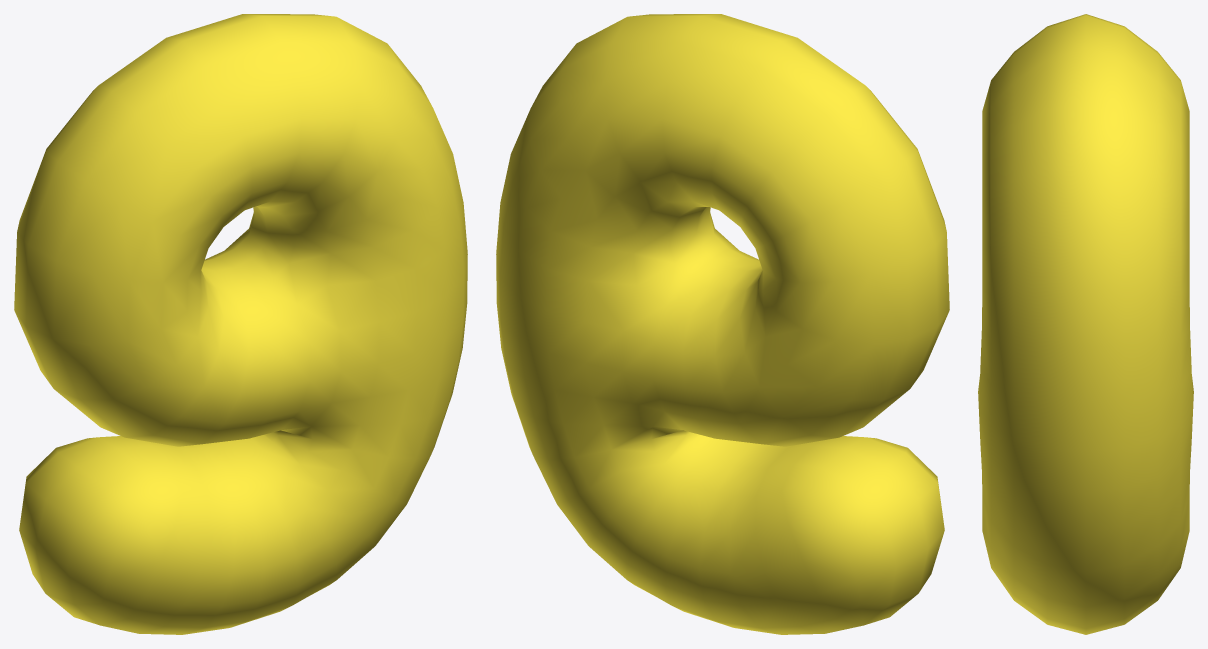
3 renders of one model, left to right at view 1: azimuth 30°, elevation 25°; view 2: azimuth 150°, elevation 25°; view 3: azimuth 270°, elevation 25°, orthographic. The views are drawn at different scales.
Visible parts, largest first — view 1: 9_wire_115115115_0; view 2: 9_wire_115115115_0; view 3: 9_wire_115115115_0.
Part boxes in pixels (<box>): 9_wire_115115115_0: <box>14,14,467,634</box>; 9_wire_115115115_0: <box>496,14,949,634</box>; 9_wire_115115115_0: <box>978,14,1193,634</box>.
Size of the model in its own units: 37.77 by 49.58 by 16.75.
